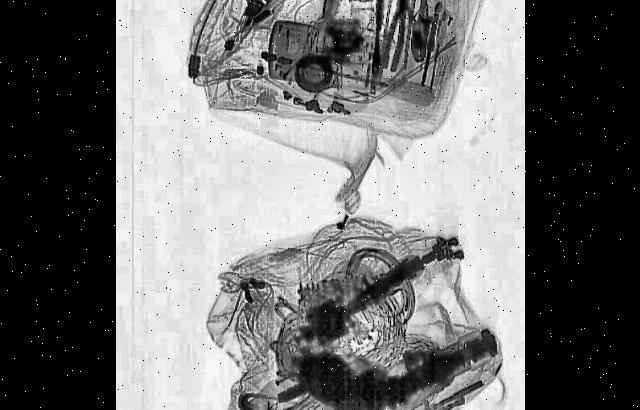Pliers: (378, 0, 418, 77), (396, 0, 429, 64)
